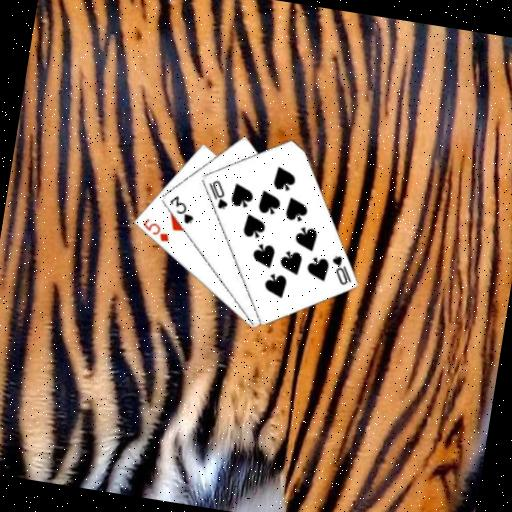10S: (325, 251, 356, 288), (202, 175, 233, 211)
3S: (163, 191, 198, 226)
5D: (137, 214, 173, 244)
